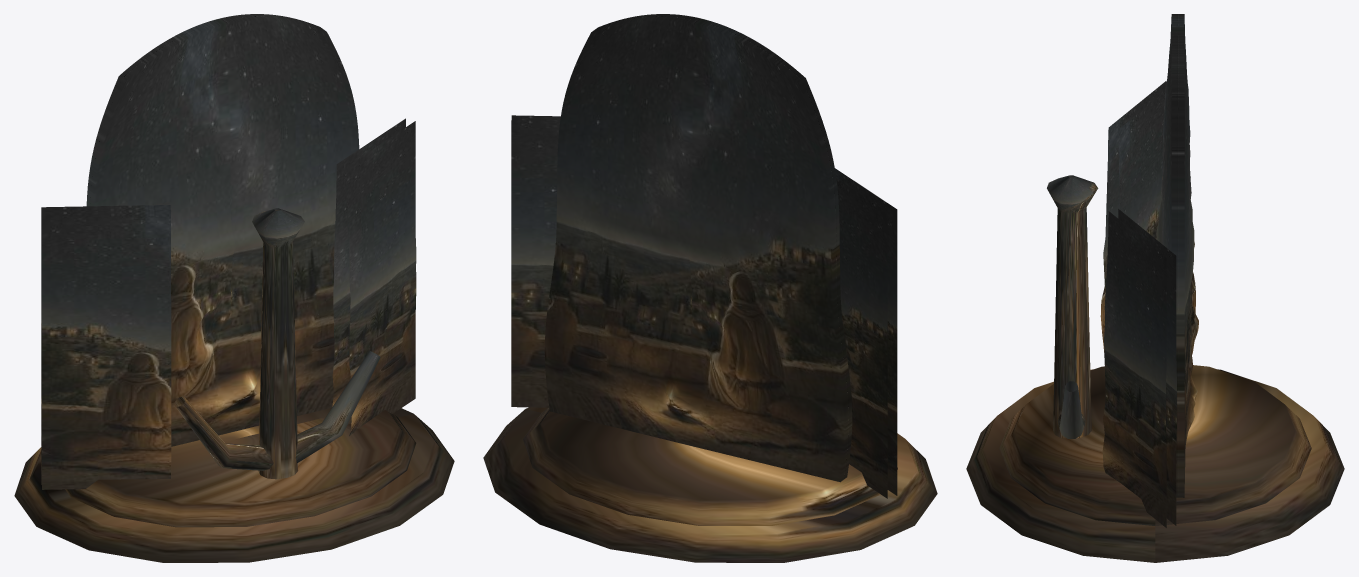
Rendered from eternity-in-their-hearts-13.glb.
3 renders of one model, left to right at view 1: azimuth 30°, elevation 25°; view 2: azimuth 150°, elevation 25°; view 3: azimuth 270°, elevation 25°, orthographic. The views are drawn at different scales.
Visible parts, largest first — view 1: PaintingSculptureMonument; view 2: PaintingSculptureMonument; view 3: PaintingSculptureMonument.
Boxes of the visible parts, left/top/right/bottom form: PaintingSculptureMonument: left=14, top=14, right=454, bottom=562; PaintingSculptureMonument: left=483, top=14, right=937, bottom=562; PaintingSculptureMonument: left=966, top=14, right=1344, bottom=562.
Size of the model in its own units: 2.76 by 2.99 by 2.35.
Materials: 1 (1 with a texture image).
